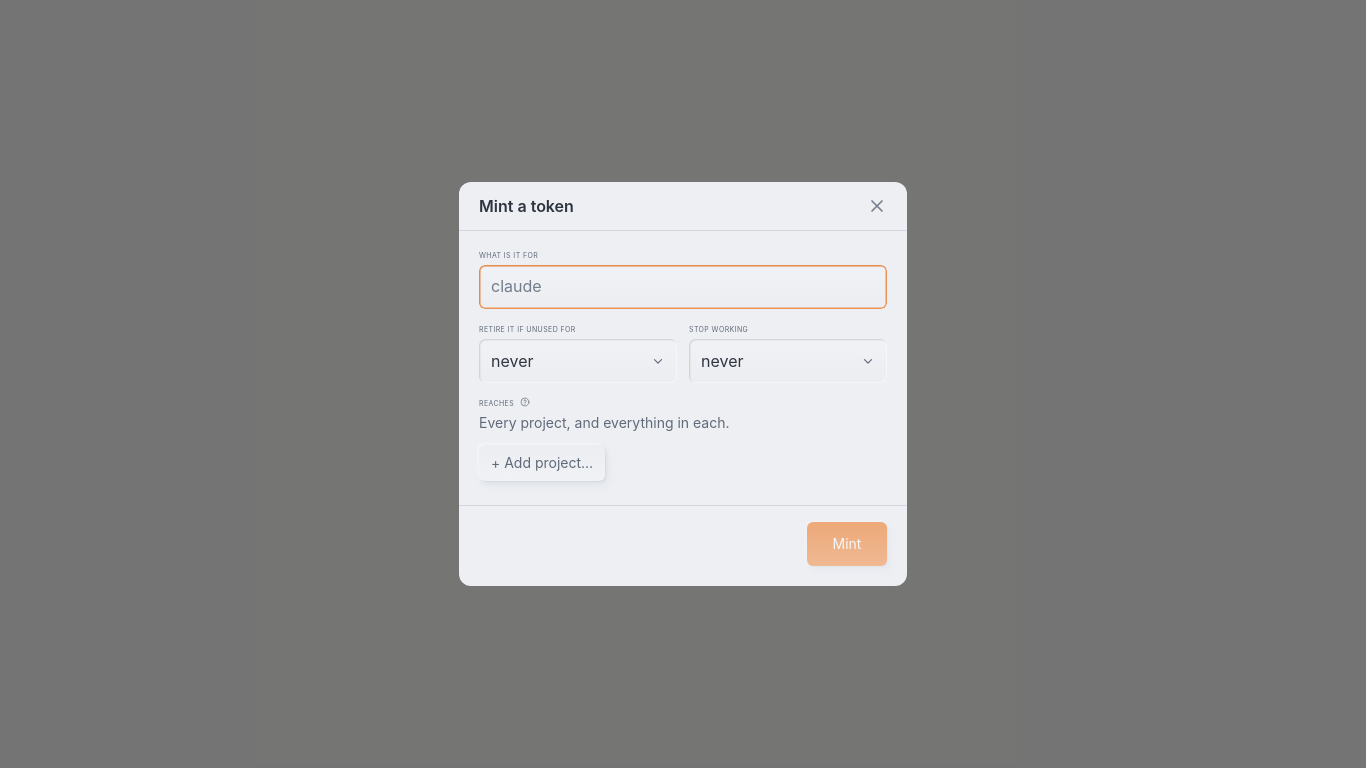
Test: TokenDialog › takes a row away, the last one included
Click the button "+ Add project…".
click(542, 463)  # box left=479, top=445, right=605, bottom=481
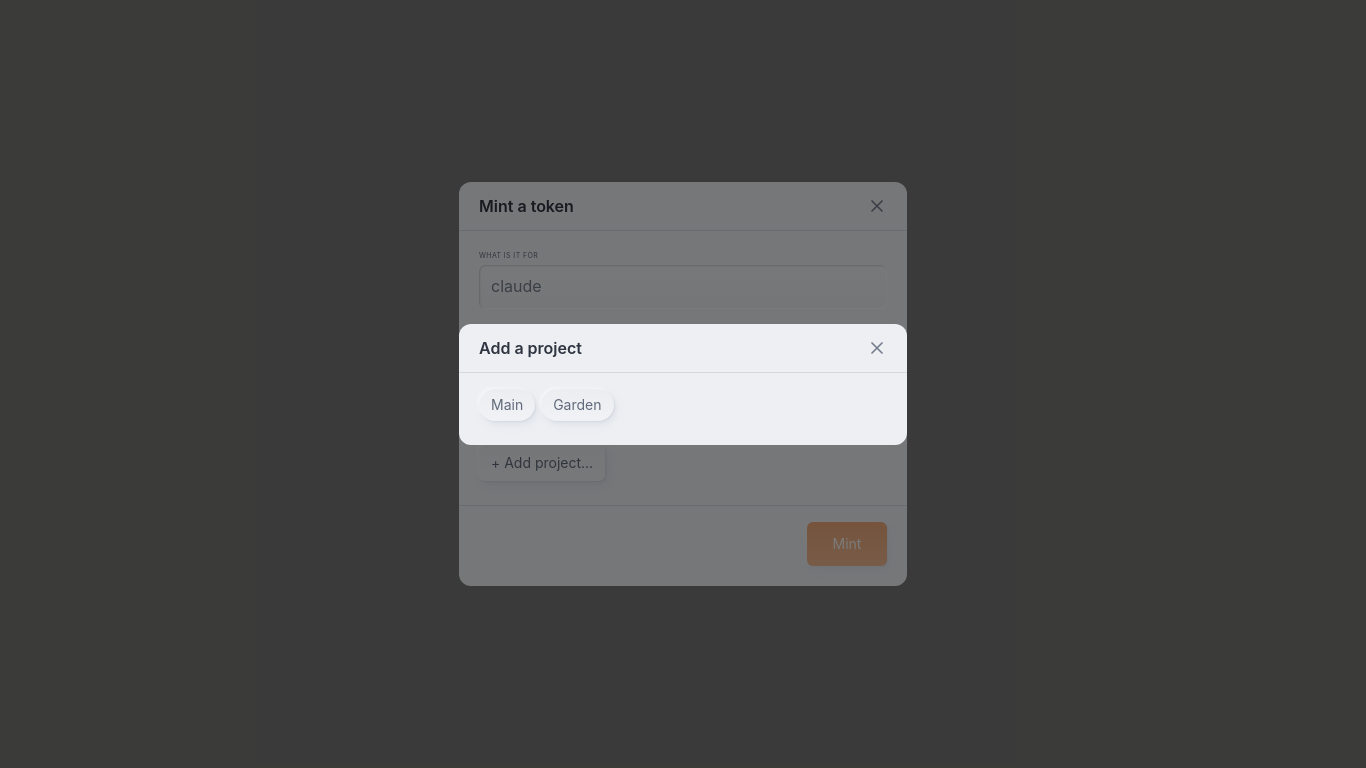
Click the button "Garden".
click(577, 404)  # box left=541, top=388, right=614, bottom=420
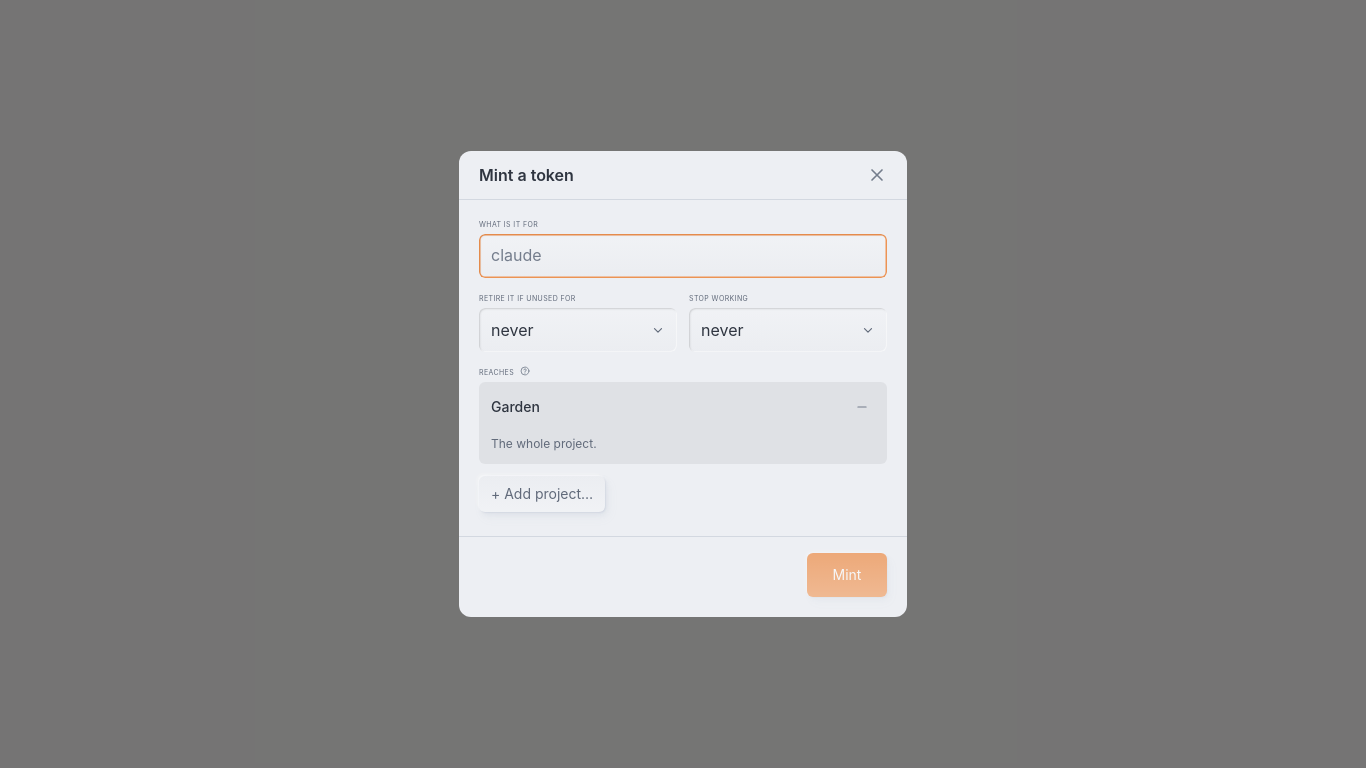
Click the button named "Remove this project".
click(862, 407)  # box left=849, top=394, right=875, bottom=420
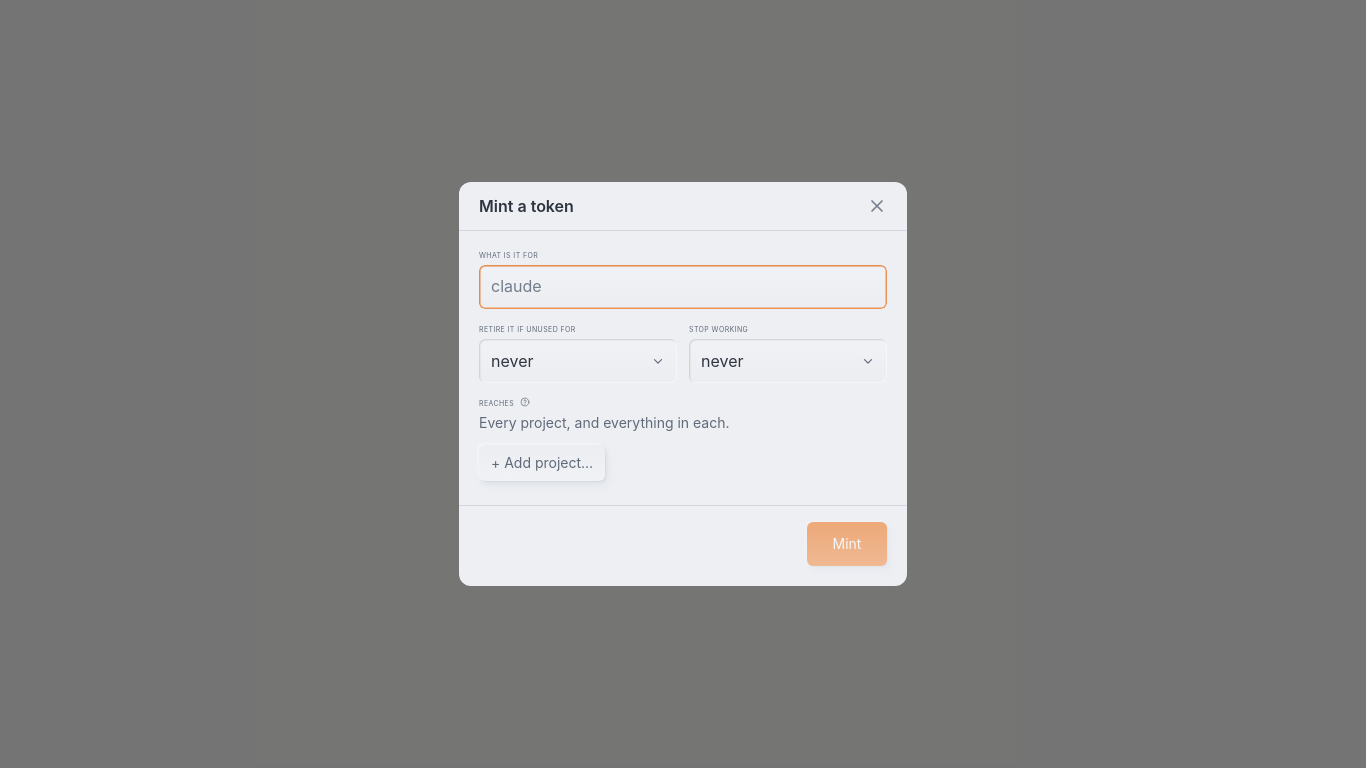
Now the text "Every project, and everything in each." is shown, box left=479, top=414, right=730, bottom=431
